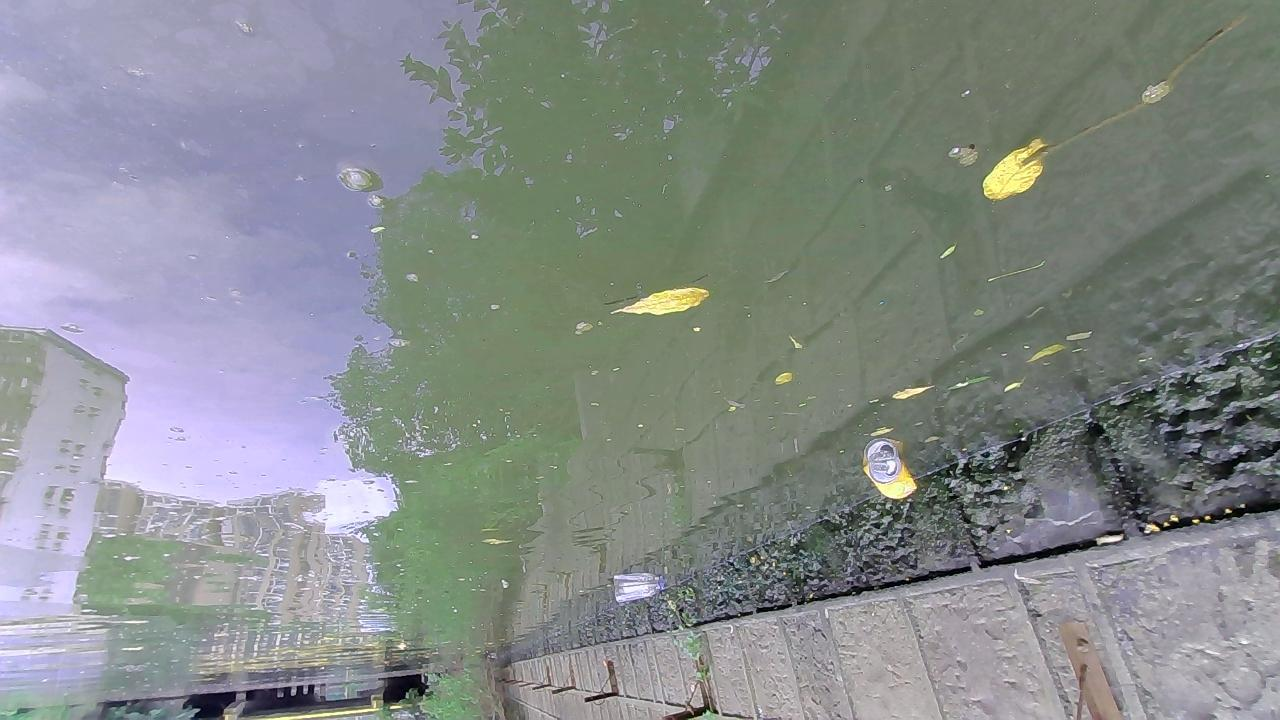Metal: (862, 458, 918, 499)
Plastic: (614, 583, 665, 603)
